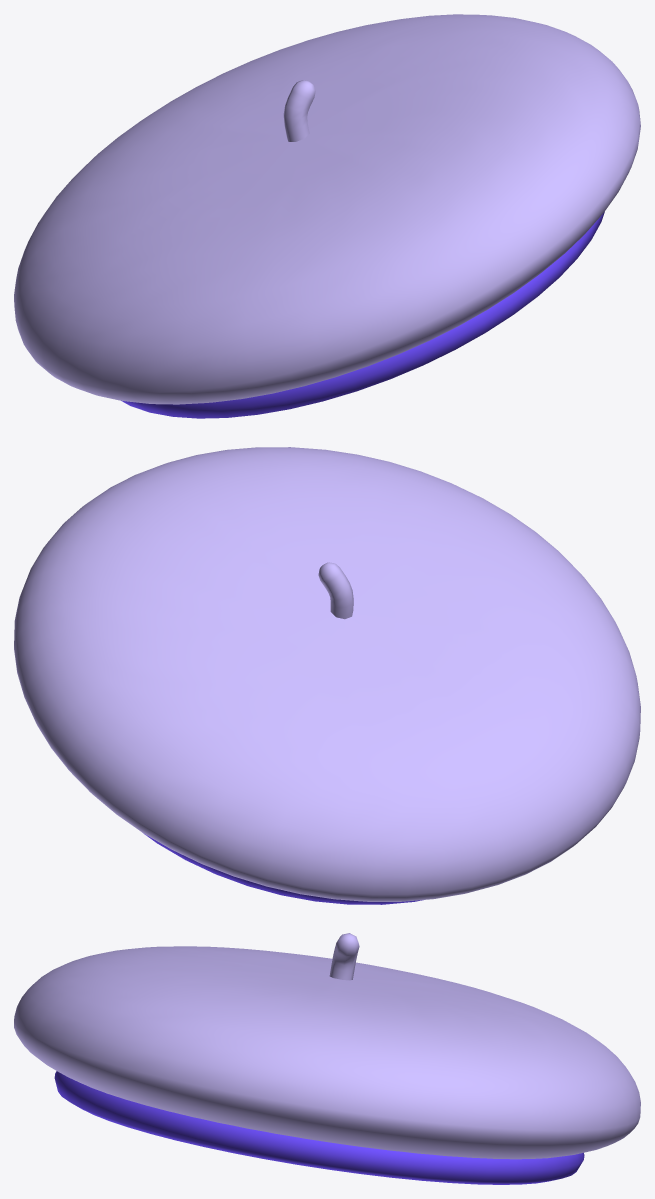
File: hat-beret.glb
3 views of the same model, one above another, from view 1: azimuth 30°, elevation 25°; view 2: azimuth 150°, elevation 25°; view 3: azimuth 270°, elevation 25° (orthographic). The views are drawn at different scales.
Visible parts, largest first — view 1: hat-beret-mesh; view 2: hat-beret-mesh; view 3: hat-beret-mesh.
Part boxes in pixels (<box>): hat-beret-mesh: <box>14,14,640,418</box>; hat-beret-mesh: <box>14,447,640,904</box>; hat-beret-mesh: <box>14,933,640,1184</box>.
Bounding box in the file's own units: 1.8 × 0.8789 × 1.86.
